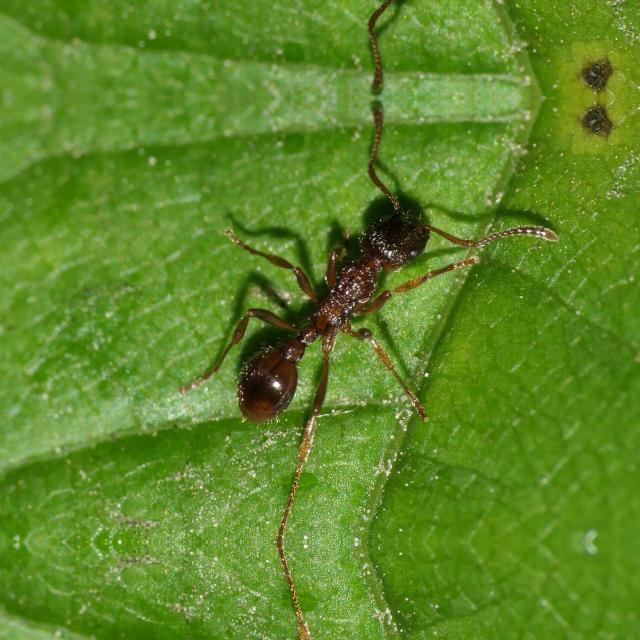Myrmica: (224, 160, 481, 440)
